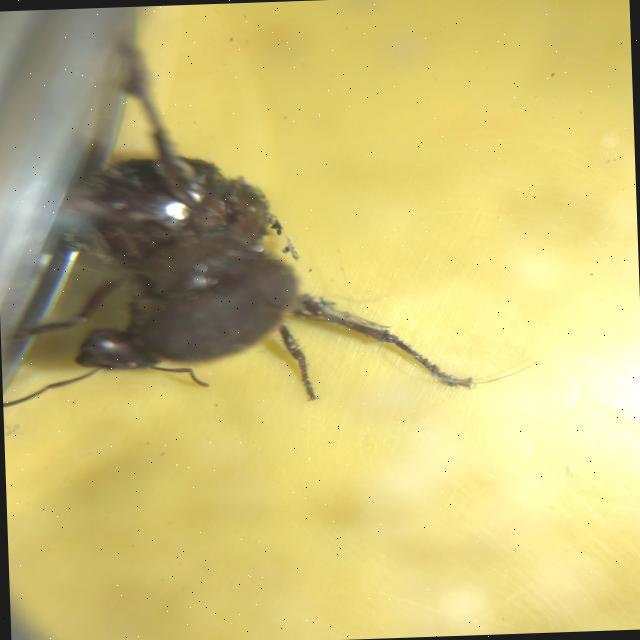Dead-Female-Dealate: (0, 19, 549, 414)
